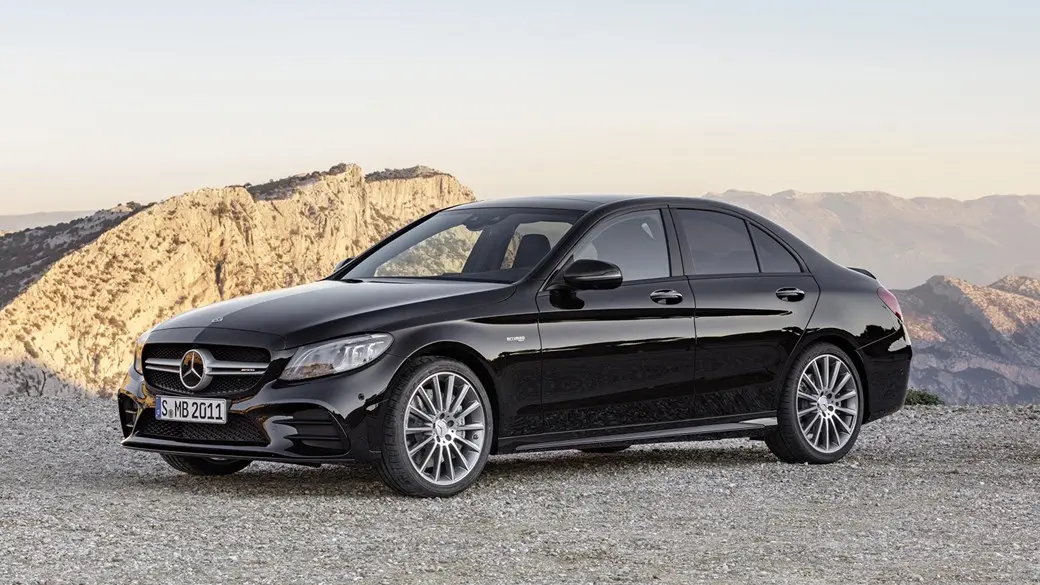cclass: (104, 185, 945, 519)
